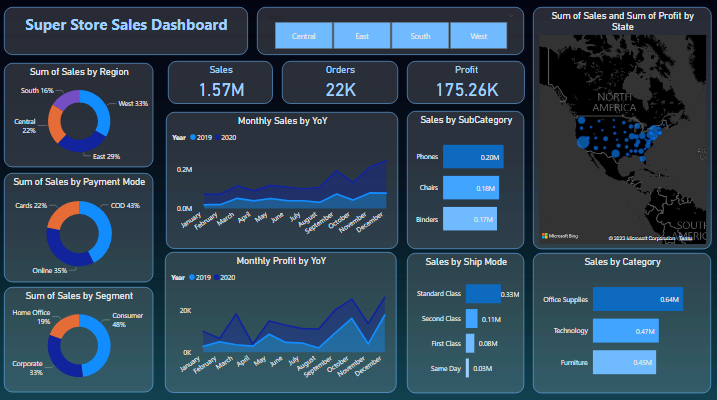

The page's visual inventory and layout, read from the dashboard file:
{"tool":"powerbi","page":{"name":"Page 1","canvas":[1280,720],"ordinal":0},"visuals":[{"type":"clusteredBarChart","title":"Sales by Category","fields":{"Category":["Sheet1.Category"],"Y":["Sum(Sheet1.Sales)"]},"box":[951.6,452,316,248.9],"z":0},{"type":"clusteredBarChart","title":"Sales by Ship Mode","fields":{"Y":["Sum(Sheet1.Sales)"],"Category":["Sheet1.Ship Mode"]},"box":[727.4,452,208.3,248.9],"z":1000},{"type":"clusteredBarChart","title":"Sales by SubCategory","fields":{"Category":["Sheet1.Sub-Category"],"Y":["Sum(Sheet1.Sales)"]},"box":[727.4,201.3,208.3,245.4],"z":2000},{"type":"stackedAreaChart","title":"Monthly  Sales by YoY","fields":{"Y":["Sum(Sheet1.Sales)"],"Category":["Sheet1.Order Date.Variation.Date Hierarchy.Month","Sheet1.Order Date.Variation.Date Hierarchy.Day"],"Series":["Sheet1.Order Date.Variation.Date Hierarchy.Year"]},"box":[300,202.4,411.9,243.2],"z":3000},{"type":"stackedAreaChart","title":"Monthly  Profit by YoY","fields":{"Category":["Sheet1.Order Date.Variation.Date Hierarchy.Month","Sheet1.Order Date.Variation.Date Hierarchy.Day"],"Series":["Sheet1.Order Date.Variation.Date Hierarchy.Year"],"Y":["Sum(Sheet1.Profit)"]},"box":[299,451.1,410.9,250.1],"z":4000},{"type":"map","fields":{"Category":["Sheet1.State"],"Size":["Sum(Sheet1.Sales)"]},"box":[951.3,15.7,316.5,430.2],"z":5000},{"type":"donutChart","fields":{"Category":["Sheet1.Segment"],"Y":["Sum(Sheet1.Sales)"]},"box":[12.4,513.8,264.8,187.1],"z":6000},{"type":"donutChart","fields":{"Category":["Sheet1.Payment Mode"],"Y":["Sum(Sheet1.Sales)"]},"box":[12.4,310.7,264.8,194.2],"z":7000},{"type":"slicer","fields":{"Values":["Sheet1.Region"]},"box":[461.6,16,474,85.2],"z":8000},{"type":"textbox","box":[12.4,15.9,432.6,84.7],"z":9000},{"type":"card","title":"Sales","fields":{"Values":["Sum(Sheet1.Sales)"]},"box":[303.6,111.8,186.4,76.3],"z":10000},{"type":"donutChart","fields":{"Y":["Sum(Sheet1.Sales)"],"Category":["Sheet1.Region"]},"box":[12.4,114.8,264.8,185.4],"z":11000},{"type":"card","title":"Orders","fields":{"Values":["Sum(Sheet1.Quantity)"]},"box":[506,111.8,205.9,76.3],"z":12000},{"type":"card","title":"Profit","fields":{"Values":["Sum(Sheet1.Profit)"]},"box":[727.9,111.8,209.5,76.3],"z":13000}]}

Visuals, with their boxes in screenshot pixels (x1, y1, x2, y2), scaled from the page's 1280x720 canvas onto the 717x400 screenshot:
"Sales by Category" clusteredBarChart: [533,251,710,389]
"Sales by Ship Mode" clusteredBarChart: [407,251,524,389]
"Sales by SubCategory" clusteredBarChart: [407,112,524,248]
"Monthly  Sales by YoY" stackedAreaChart: [168,112,399,248]
"Monthly  Profit by YoY" stackedAreaChart: [167,251,398,390]
map - Sheet1.State x Sum(Sheet1.Sales): [533,9,710,248]
donutChart - Sheet1.Segment x Sum(Sheet1.Sales): [7,285,155,389]
donutChart - Sheet1.Payment Mode x Sum(Sheet1.Sales): [7,173,155,280]
slicer - Sheet1.Region: [259,9,524,56]
textbox: [7,9,249,56]
"Sales" card: [170,62,274,104]
donutChart - Sum(Sheet1.Sales) x Sheet1.Region: [7,64,155,167]
"Orders" card: [283,62,399,104]
"Profit" card: [408,62,525,104]
